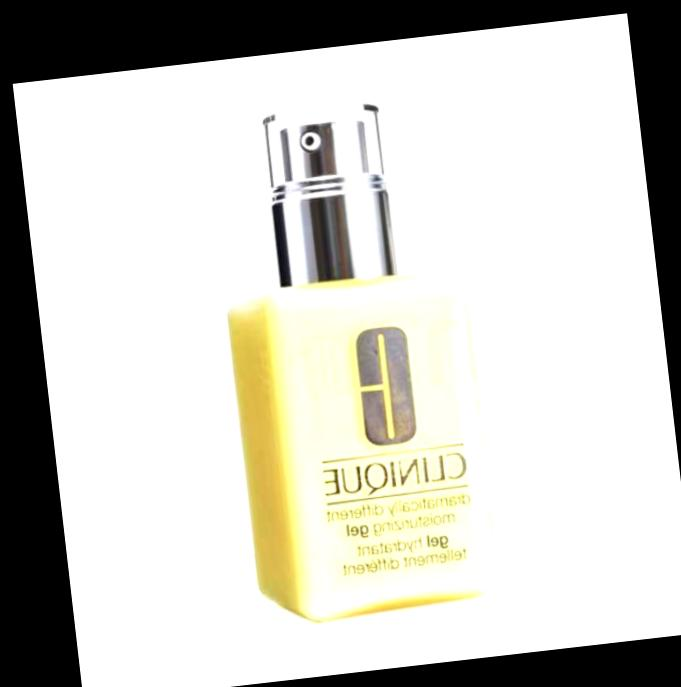cosmetic: (202, 87, 503, 624)
